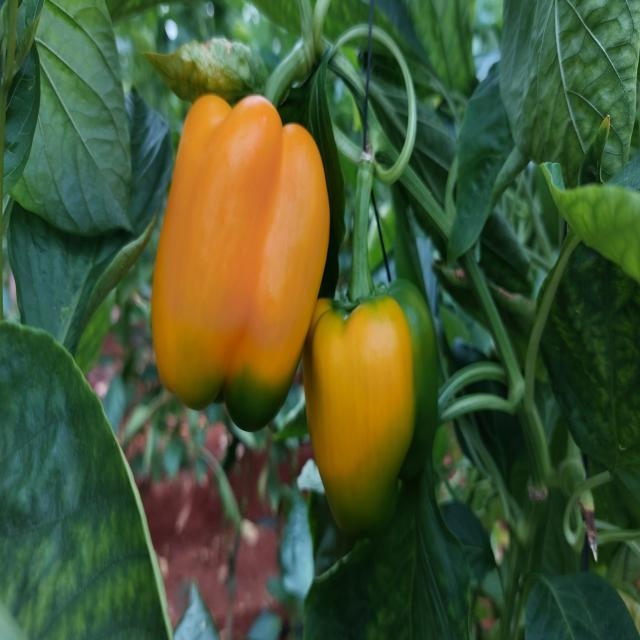Yellow-Ready-to-Harvest: (148, 90, 332, 380), (304, 299, 410, 488)
